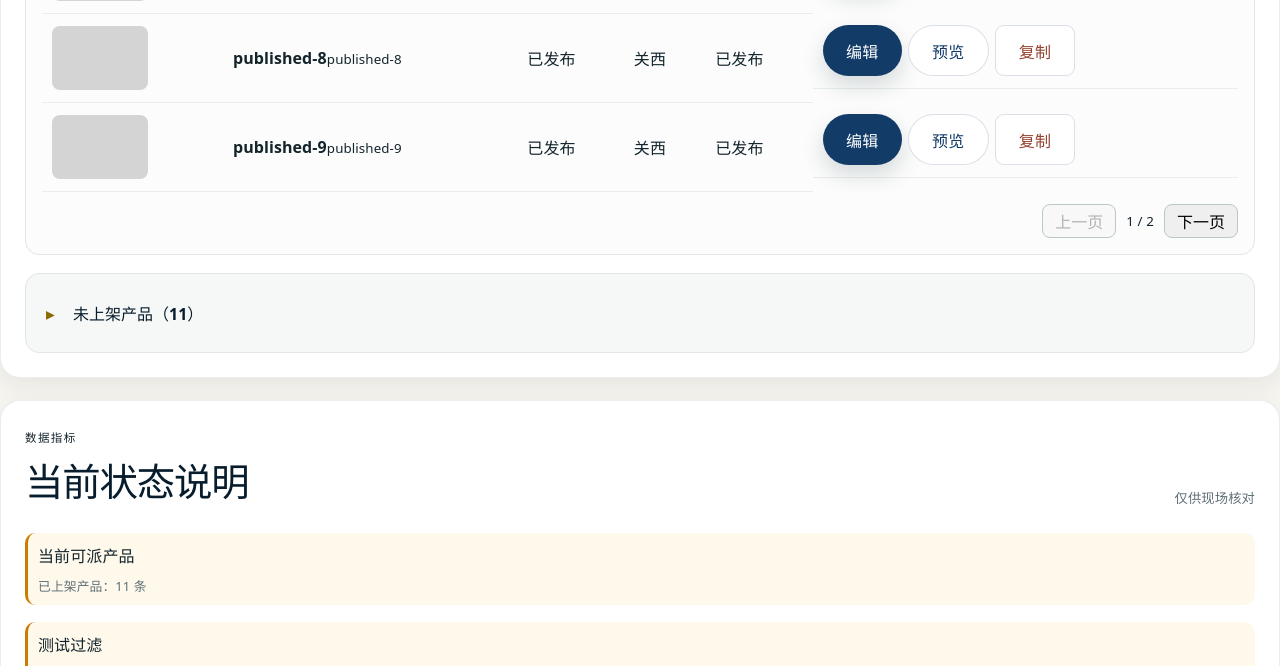
Test case: 产品列表分区 › 分组后分页并保留各组的稳定顺序与数量
The width and height of the screenshot is (1280, 666).
(page scrolled)
Click the button "▸ 未上架产品（11）": (121, 314) [42, 290, 1238, 336]
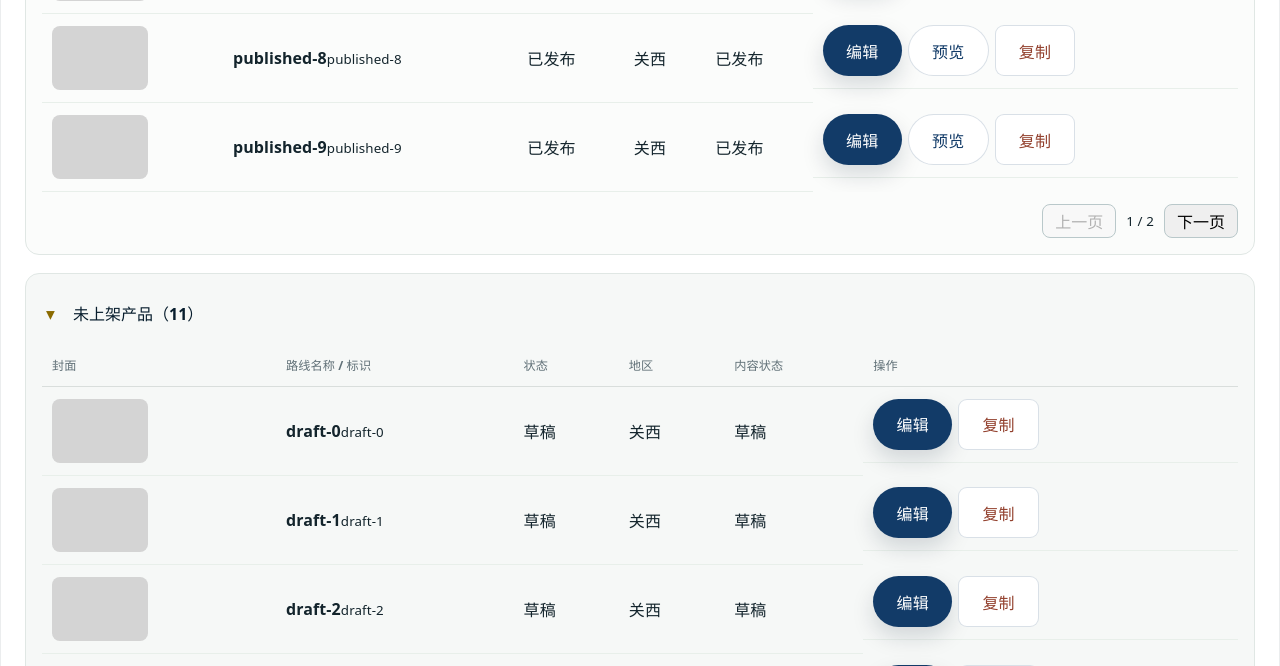
Now the 1st text "draft-0" is shown, box [286, 420, 341, 442]
